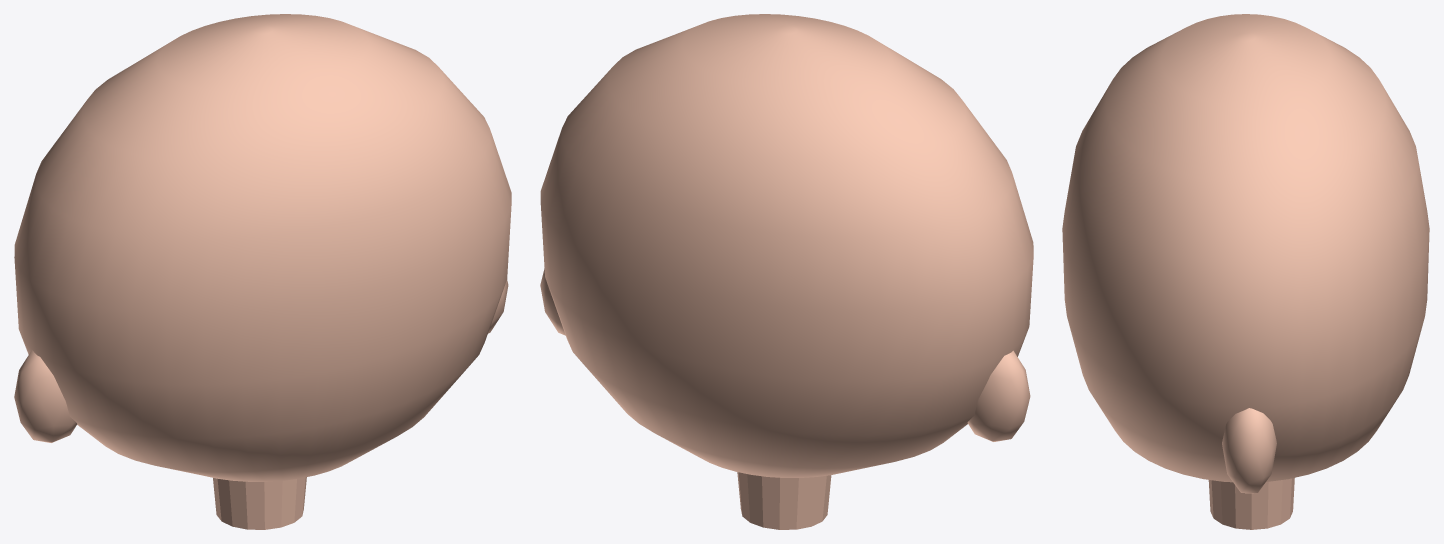
File: blank_head.glb
3 renders of one model, left to right at view 1: azimuth 30°, elevation 25°; view 2: azimuth 150°, elevation 25°; view 3: azimuth 270°, elevation 25°, orthographic. The views are drawn at different scales.
Visible parts, largest first — view 1: Face • blank porcelain, Neck, Ear.L; view 2: Face • blank porcelain, Neck, Ear.L, Ear.R; view 3: Face • blank porcelain, Ear.R, Neck.
Boxes of the visible parts, left/top/right/bottom form: Face • blank porcelain: left=14, top=14, right=511, bottom=481; Neck: left=213, top=477, right=306, bottom=529; Ear.L: left=14, top=350, right=77, bottom=442; Face • blank porcelain: left=540, top=14, right=1033, bottom=477; Neck: left=737, top=472, right=831, bottom=529; Ear.L: left=967, top=350, right=1030, bottom=441; Ear.R: left=540, top=268, right=565, bottom=335; Face • blank porcelain: left=1062, top=14, right=1429, bottom=482; Ear.R: left=1222, top=408, right=1276, bottom=493; Neck: left=1208, top=477, right=1294, bottom=529.
Size of the model in its own units: 2.39 by 2.28 by 1.6.
